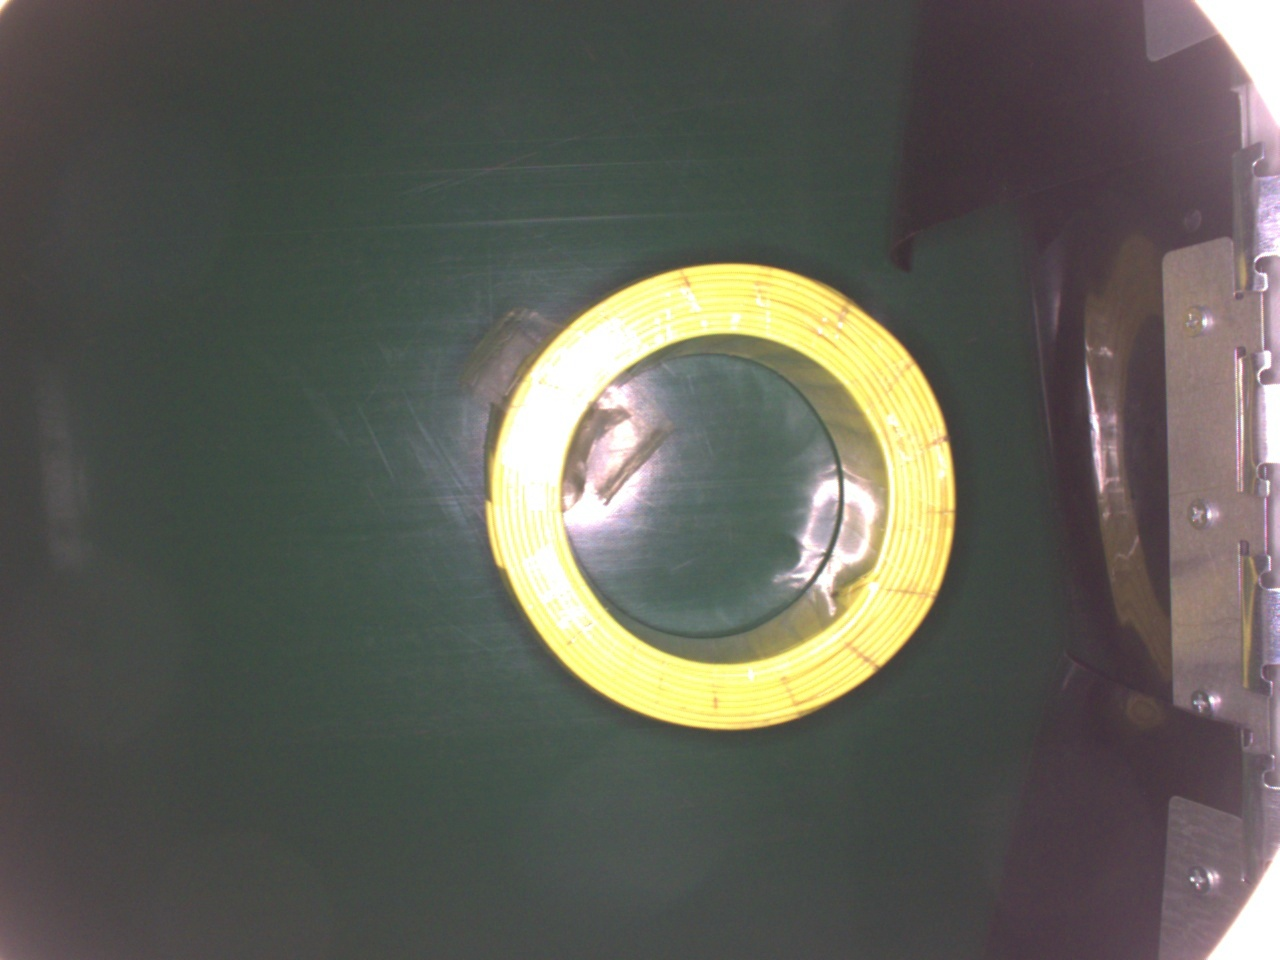yellow: (483, 259, 957, 732)
